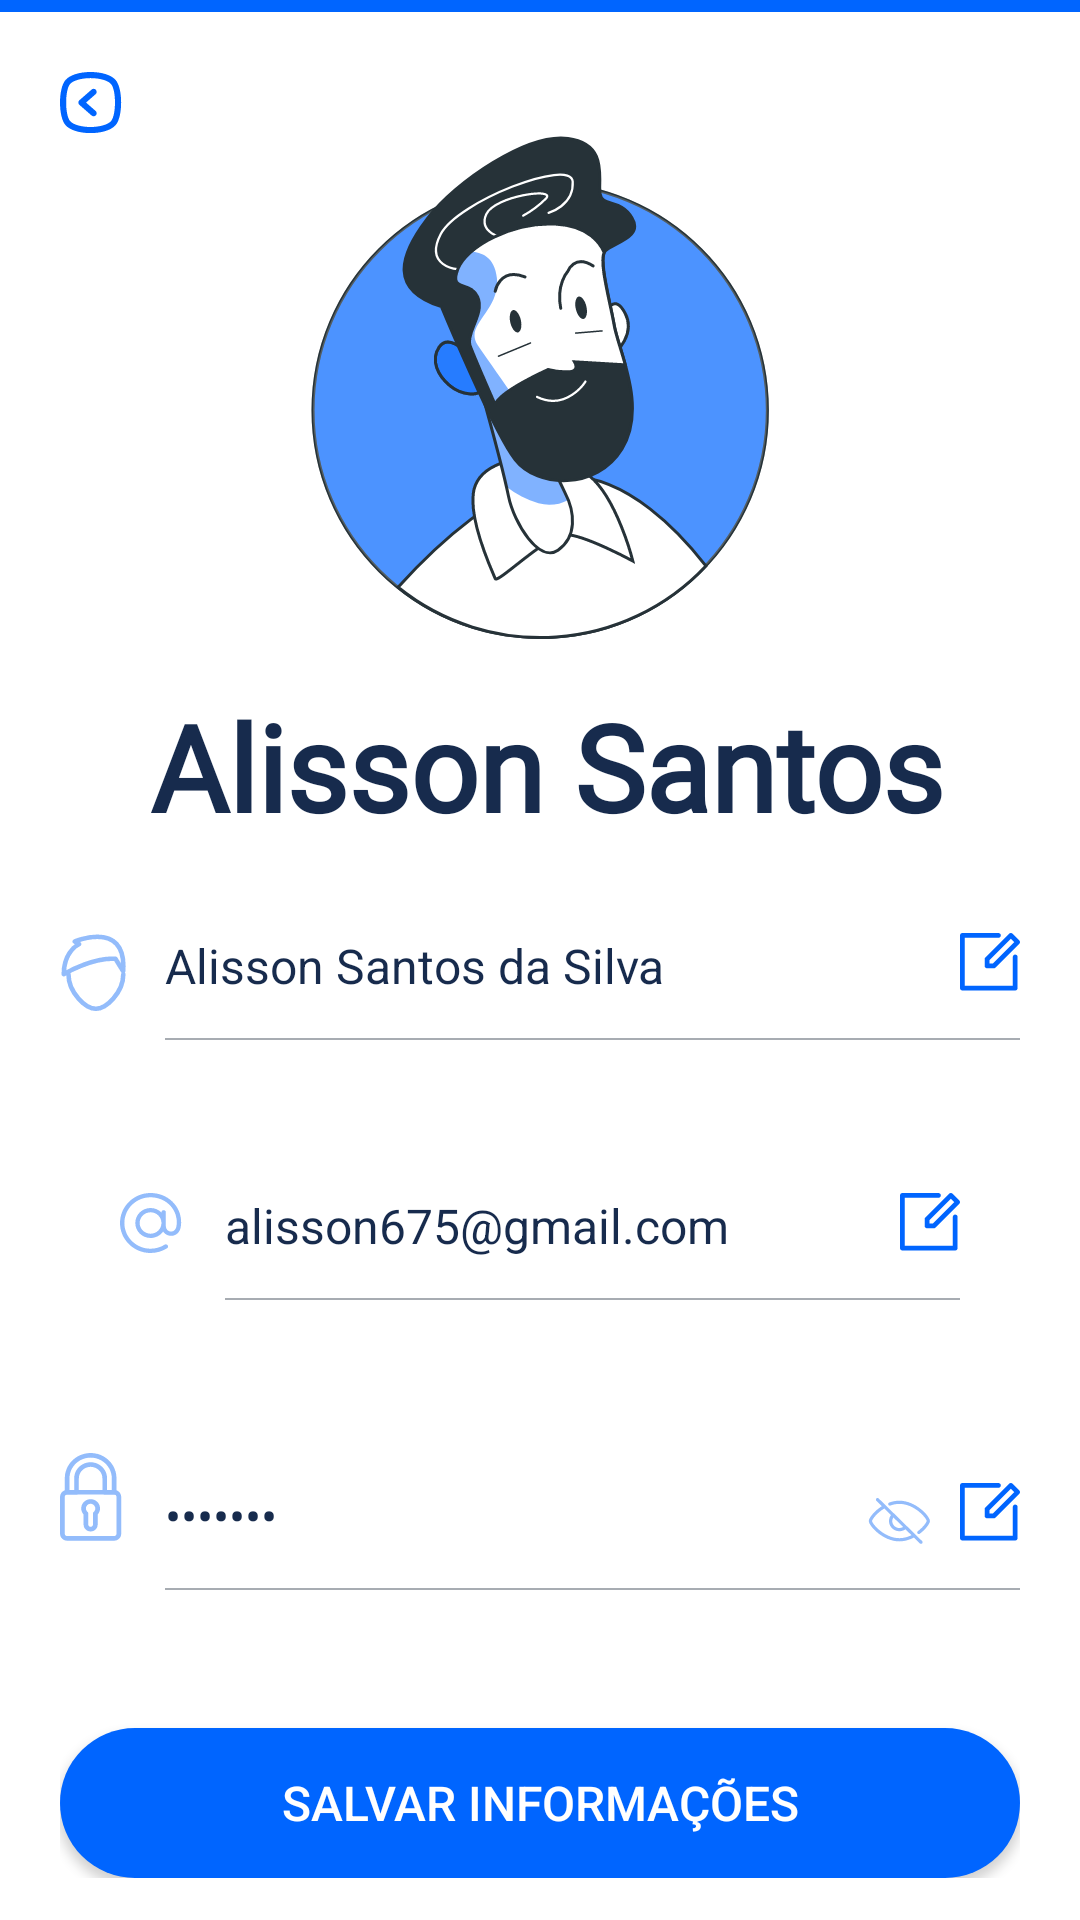

Named icons in this screenshot (1080 x 1920) and their centers, point (x, y):
back: point (91, 102)
editar: point (990, 962), point (930, 1222), point (990, 1512)
email: point (151, 1223)
esconde: point (899, 1521)
nome: point (93, 972)
senha: point (91, 1497)
